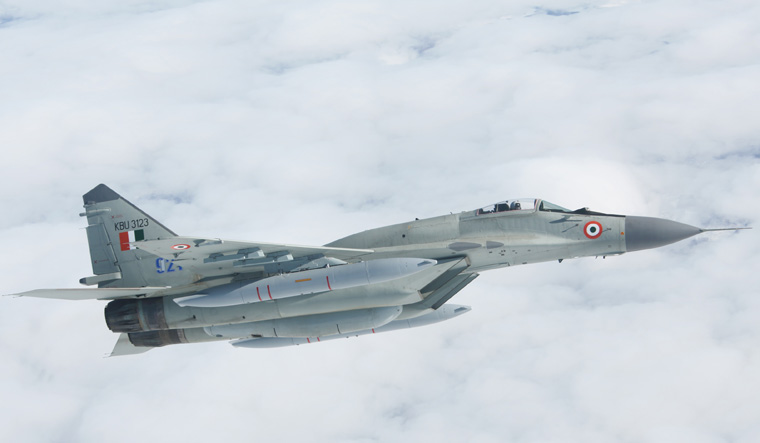Mig-29: (28, 154, 714, 366)
